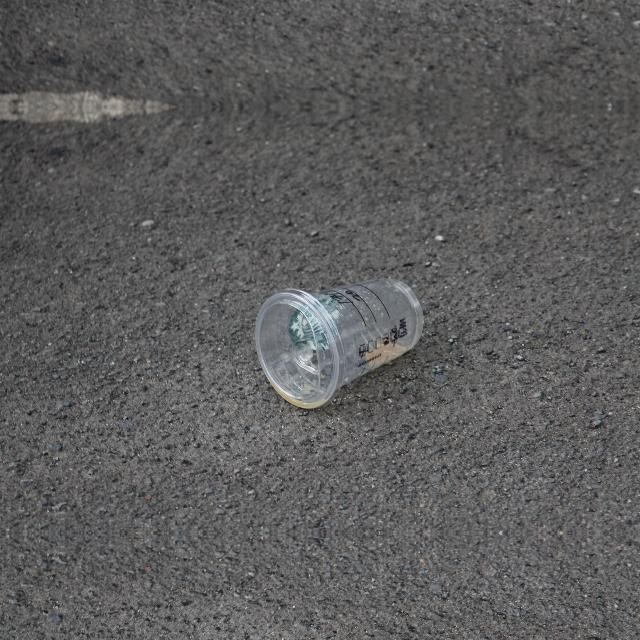Plastic: (252, 274, 426, 411)
